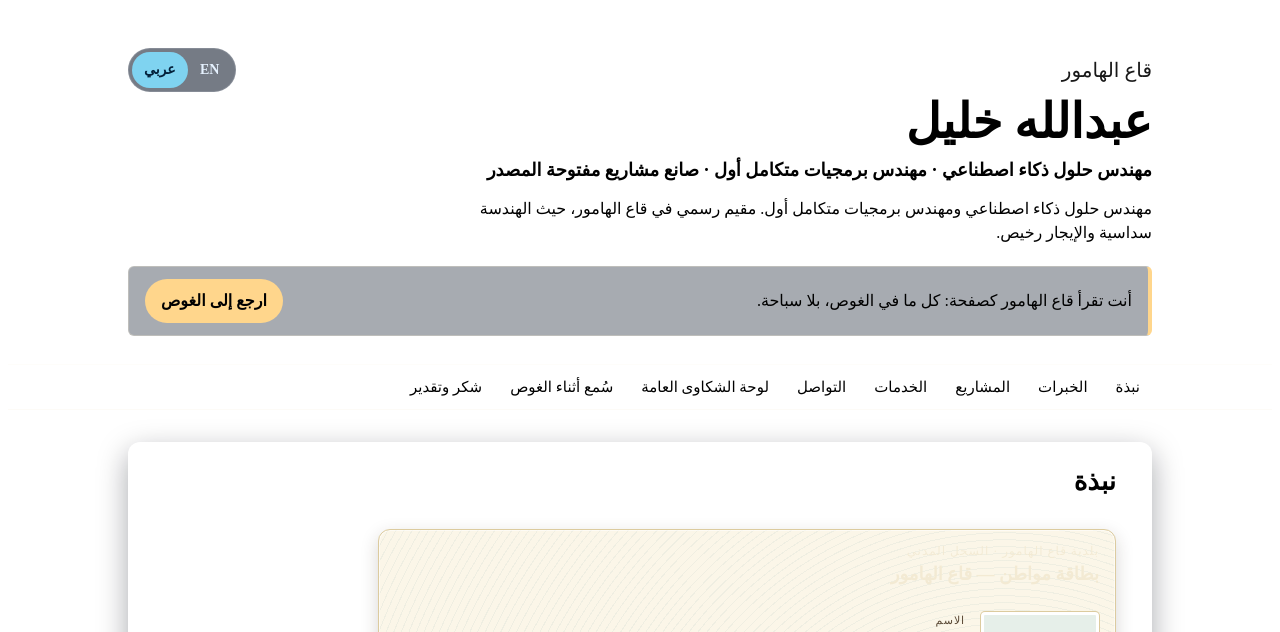
the page view in Arabic › reads right to left with the switch in its masthead, and switches in place
Expected: the heading "عبدالله خليل" is shown, [906, 95, 1152, 148]
What coordinates should you click on to do the following:
click the button "EN"
I would click on:
 (210, 70)
Its box is [188, 52, 232, 88].
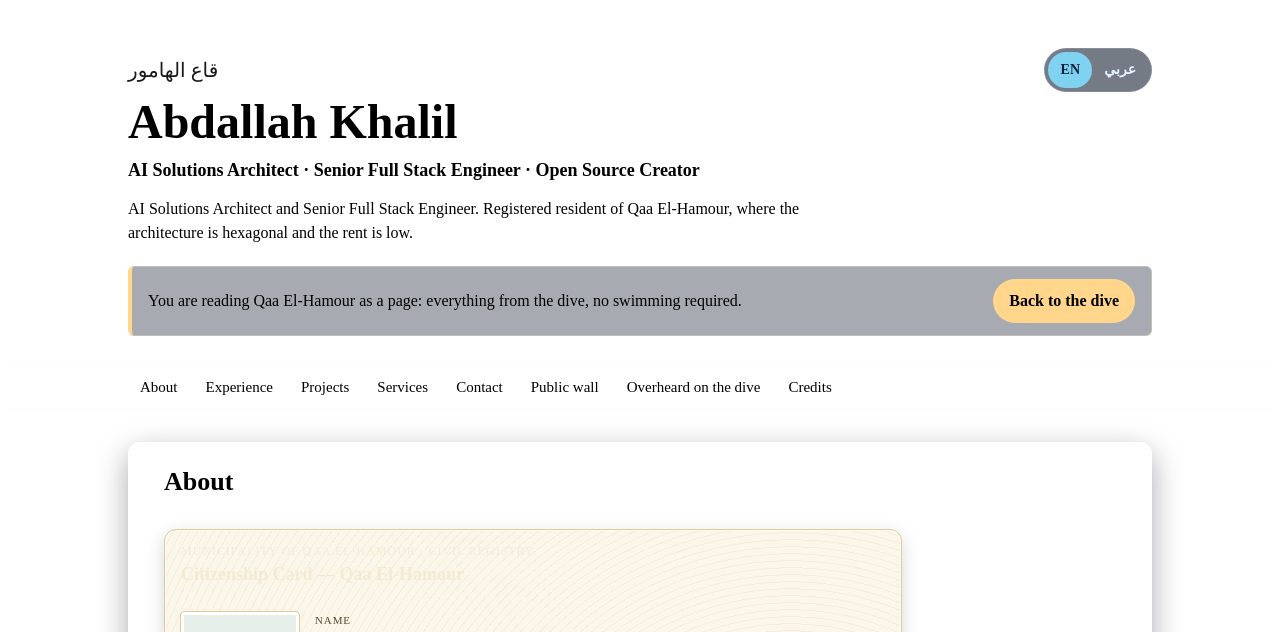
Result: the heading "Abdallah Khalil" is shown at [128, 95, 458, 148]
Result: the navigation bar named "Sections" is shown at [8, 364, 1272, 409]
